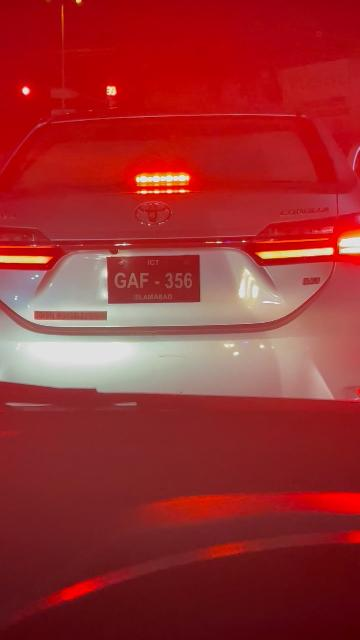plate: (106, 256, 200, 302)
